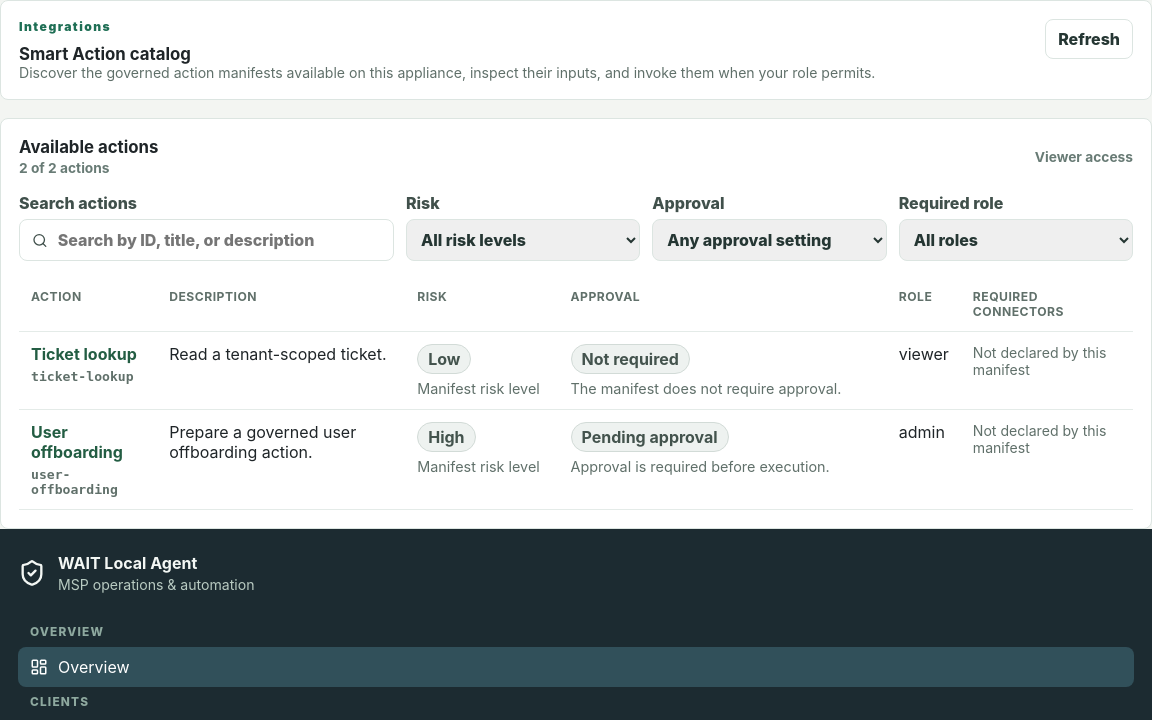
Smart Action catalog › renders the catalog, filters by text, opens detail, and exposes viewer navigation
Expected: the text "Ticket lookup" is shown, [31,344,137,364]
Expected: the text "User offboarding" is shown, [31,422,123,462]
Type "offboarding" into the search field named "Search Smart Actions" at [219, 240], box [58,230,381,250]
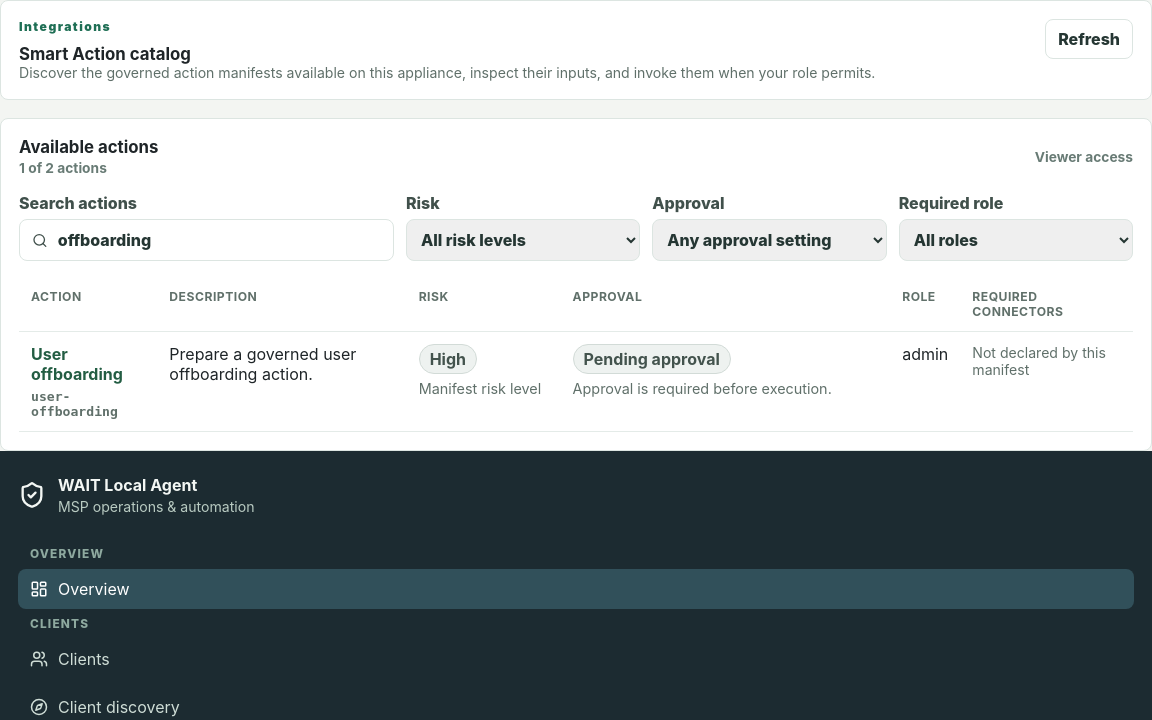
Expected: the text "User offboarding" is shown, [31,344,123,384]
Result: the button "Ticket lookup" is gone
Click the button "User offboarding user-offboarding" at [88, 382], box [31,344,145,419]
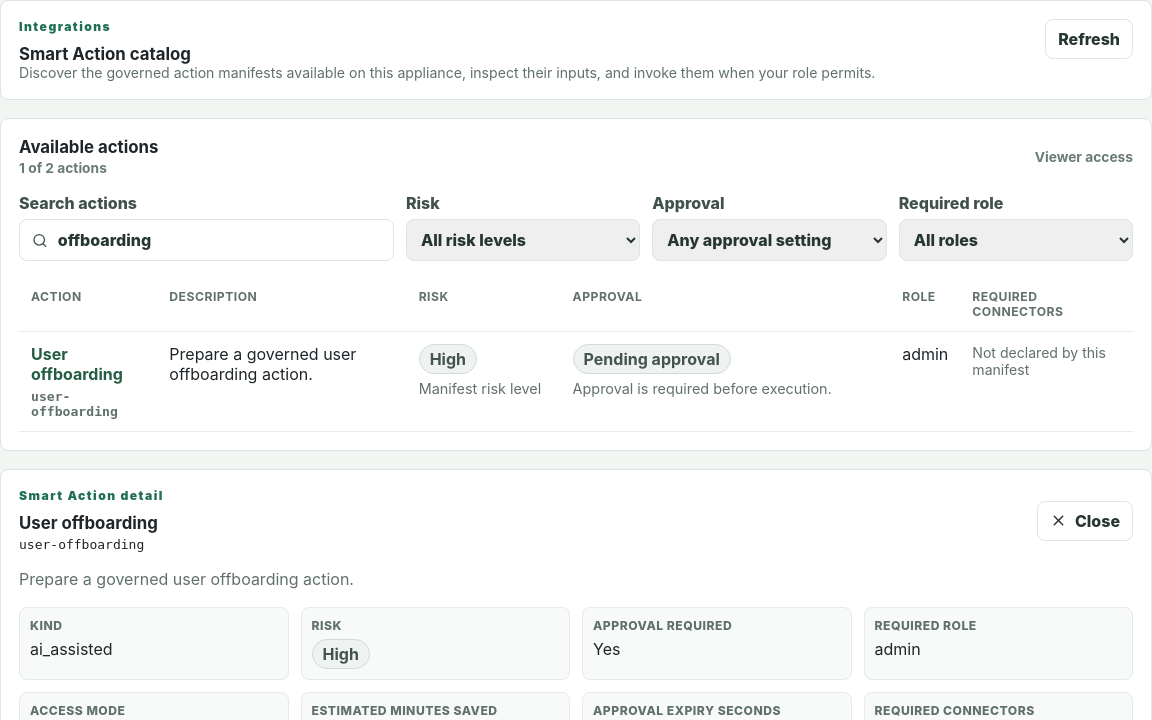
Result: the text "Not declared by this manifest" is shown 2 times
Result: the heading "User offboarding" is shown at [19,513,164,533]
